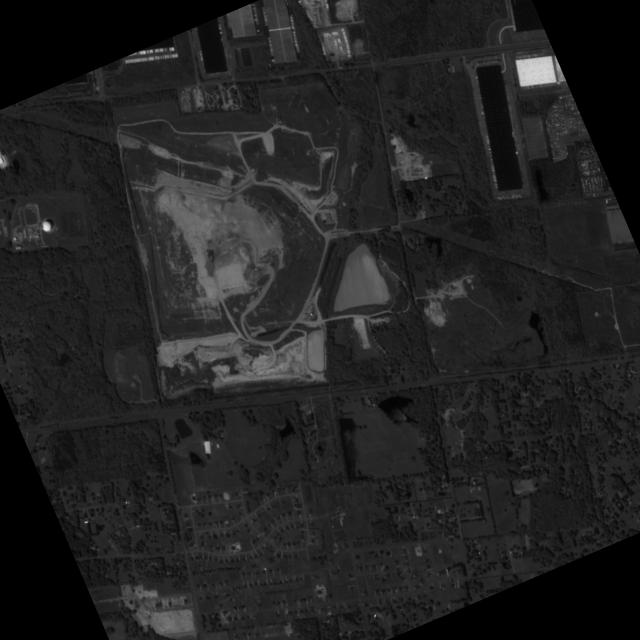storage-tank: (39, 219, 52, 232), (11, 236, 16, 240), (308, 311, 312, 315)
